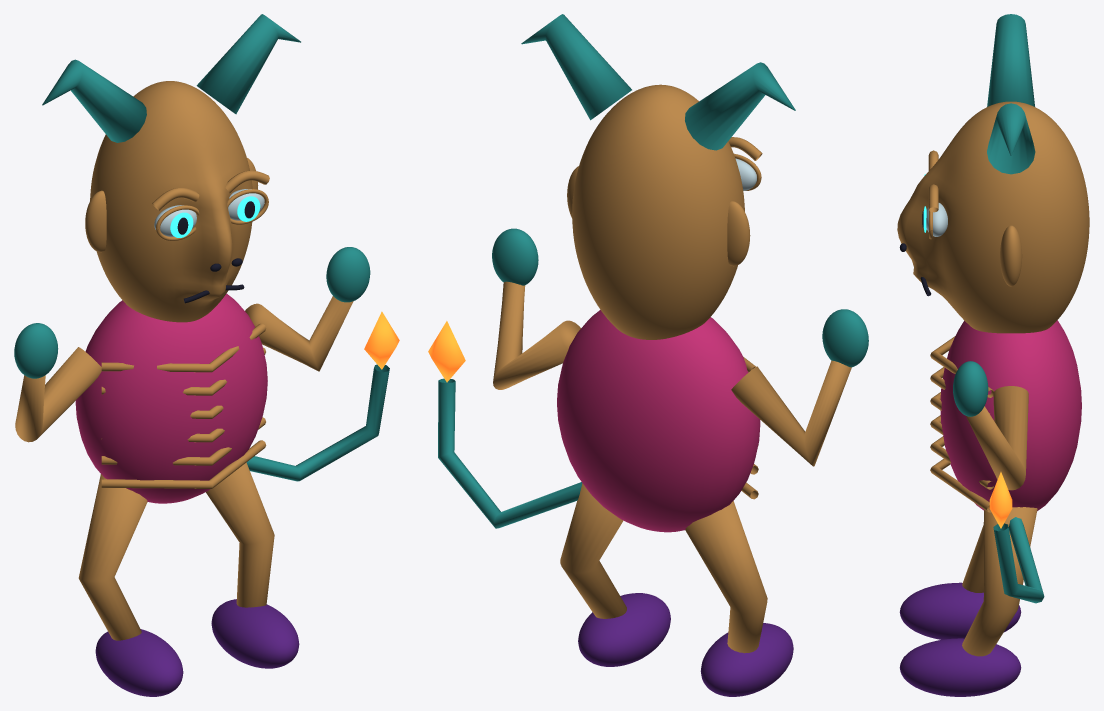
The model's file is spark-imp.glb.
3 views of the same model, side by side, from view 1: azimuth 30°, elevation 25°; view 2: azimuth 150°, elevation 25°; view 3: azimuth 270°, elevation 25° (orthographic). The views are drawn at different scales.
Visible parts, largest first — view 1: Spark Imp / gold.007, Spark Imp / pink.007, Spark Imp / teal.007, Spark Imp / purple.007, Spark Imp / ember.007, Spark Imp / pearl.007, Spark Imp / ink.007, Spark Imp / cyan.007; view 2: Spark Imp / gold.007, Spark Imp / pink.007, Spark Imp / teal.007, Spark Imp / purple.007, Spark Imp / ember.007; view 3: Spark Imp / gold.007, Spark Imp / pink.007, Spark Imp / teal.007, Spark Imp / purple.007, Spark Imp / ember.007, Spark Imp / pearl.007.
Part boxes in pixels (left/top/right/bottom): Spark Imp / gold.007: left=15, top=81, right=353, bottom=640; Spark Imp / pink.007: left=75, top=293, right=267, bottom=503; Spark Imp / teal.007: left=14, top=14, right=389, bottom=481; Spark Imp / purple.007: left=95, top=599, right=299, bottom=696; Spark Imp / ember.007: left=364, top=311, right=399, bottom=369; Spark Imp / pearl.007: left=154, top=189, right=264, bottom=236; Spark Imp / ink.007: left=177, top=201, right=254, bottom=303; Spark Imp / cyan.007: left=170, top=196, right=260, bottom=237; Spark Imp / gold.007: left=493, top=84, right=851, bottom=653; Spark Imp / pink.007: left=557, top=310, right=760, bottom=532; Spark Imp / teal.007: left=438, top=14, right=868, bottom=528; Spark Imp / purple.007: left=578, top=593, right=793, bottom=696; Spark Imp / ember.007: left=428, top=321, right=465, bottom=382; Spark Imp / gold.007: left=897, top=101, right=1089, bottom=656; Spark Imp / pink.007: left=940, top=320, right=1081, bottom=510; Spark Imp / teal.007: left=953, top=14, right=1044, bottom=603; Spark Imp / purple.007: left=899, top=582, right=1021, bottom=696; Spark Imp / ember.007: left=989, top=472, right=1012, bottom=528; Spark Imp / pearl.007: left=926, top=203, right=947, bottom=236.
Size of the model in its own units: 0.895 by 1.32 by 0.3796.
